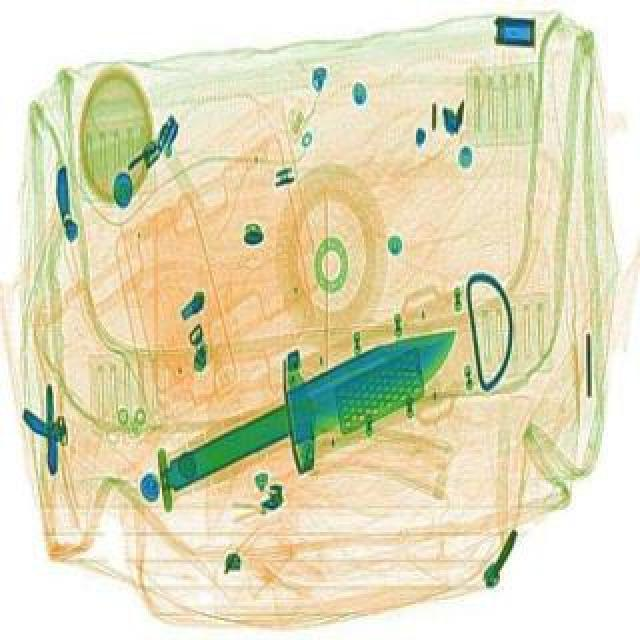knife: (110, 278, 490, 542)
